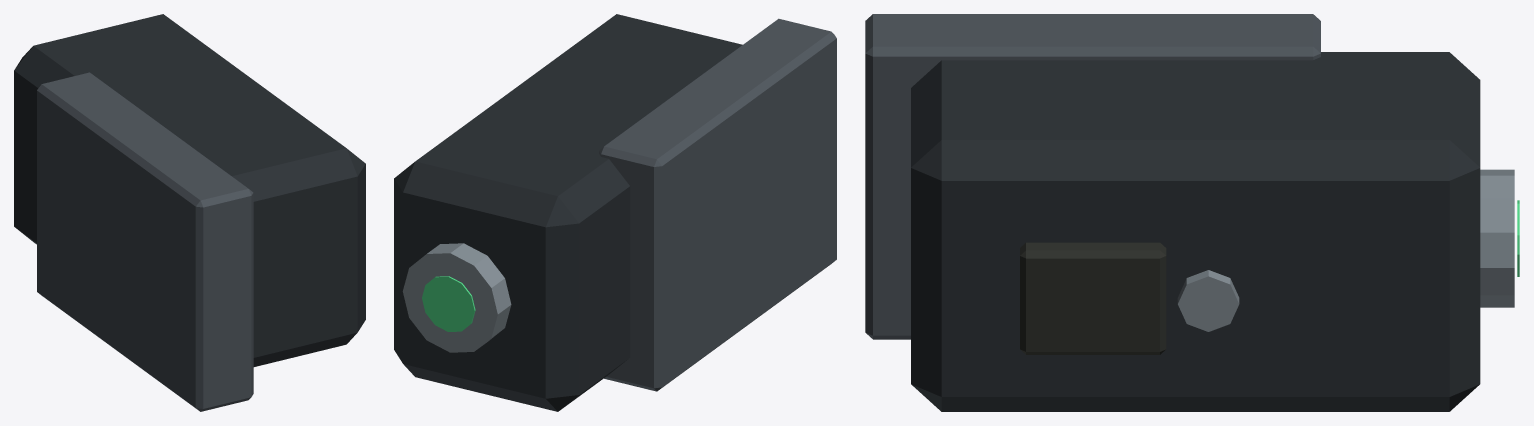
Rendered from att_laser_rail_green.glb.
3 views of the same model, side by side, from view 1: azimuth 30°, elevation 25°; view 2: azimuth 150°, elevation 25°; view 3: azimuth 270°, elevation 25° (orthographic). The views are drawn at different scales.
Visible parts, largest first — view 1: Geometry_att_laser_rail_green; view 2: Geometry_att_laser_rail_green; view 3: Geometry_att_laser_rail_green.
Part boxes in pixels (x1,y1,x2,y2): Geometry_att_laser_rail_green: [14, 14, 365, 411]; Geometry_att_laser_rail_green: [394, 14, 836, 411]; Geometry_att_laser_rail_green: [865, 14, 1519, 411].
Bounding box in the file's own units: 0.0455 × 0.042 × 0.085.
